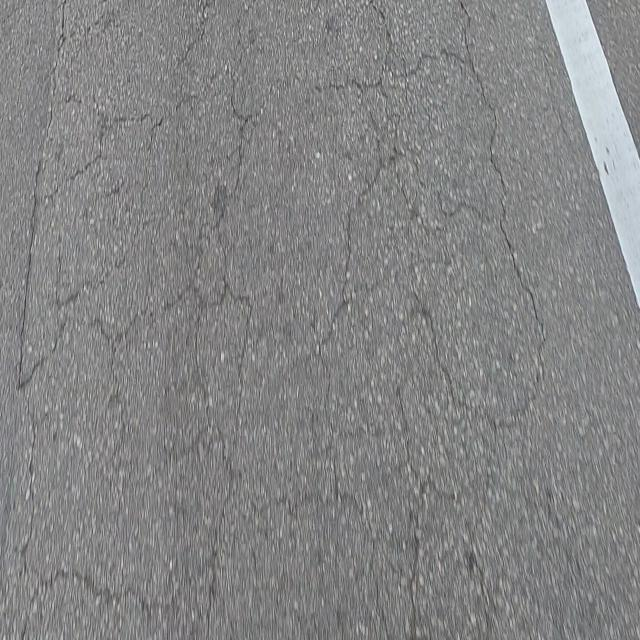Retak-Buaya: (12, 0, 548, 640)
